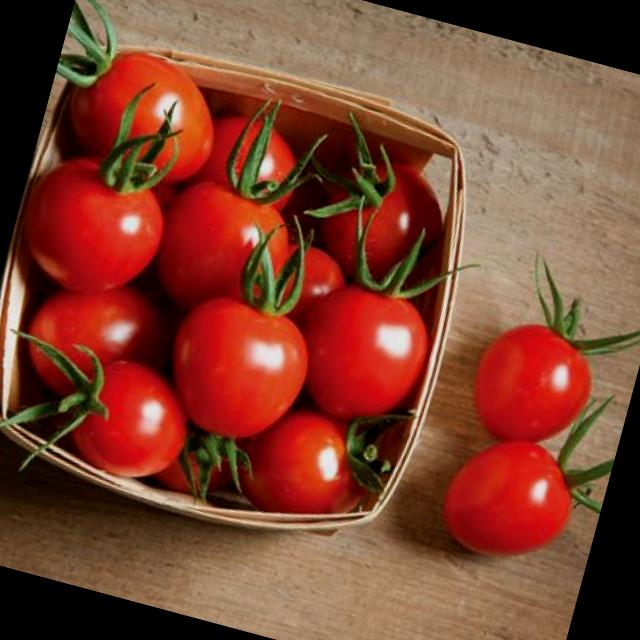tomato: (287, 227, 462, 443), (10, 320, 204, 498), (151, 266, 328, 448), (414, 411, 602, 579), (44, 10, 229, 180), (15, 128, 182, 306), (448, 290, 622, 457), (152, 128, 302, 308)
